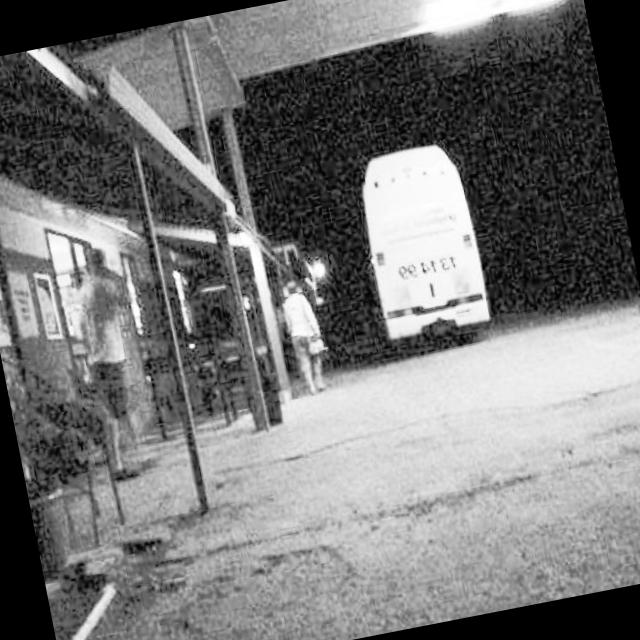Bus: (320, 110, 511, 386)
Person: (50, 234, 166, 488), (278, 276, 334, 422)
